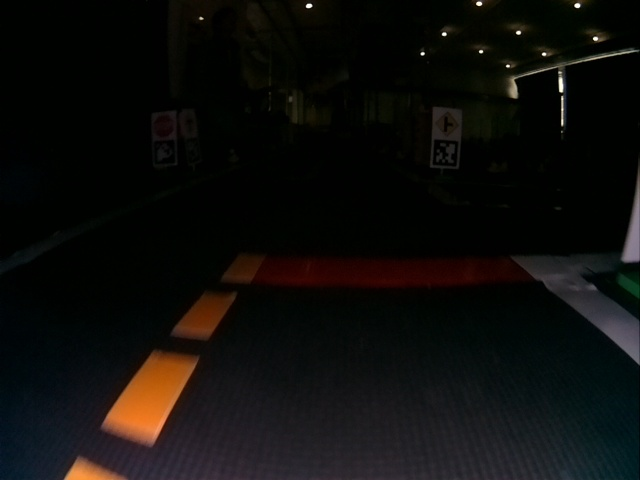Intersection sign: (435, 110, 458, 135)
QR code: (433, 141, 456, 166), (155, 140, 173, 163)
Stop sign: (154, 114, 172, 138)
